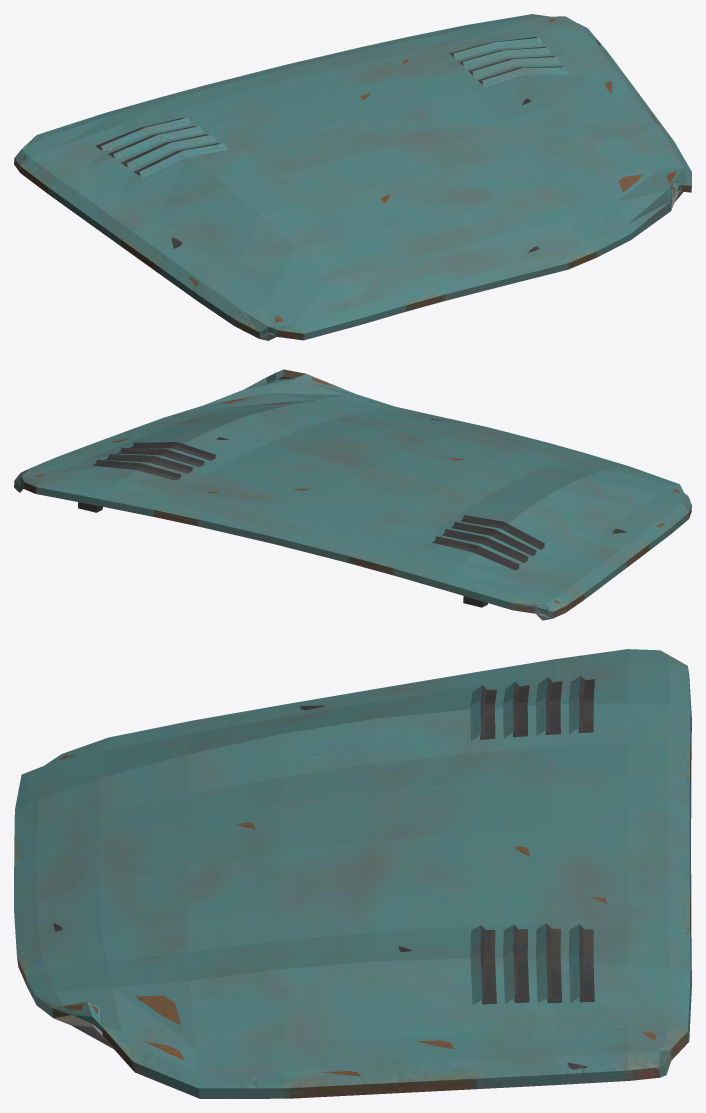
The model's file is JV14_detached_car_hood_v2.glb.
3 views of the same model, one above another, from view 1: azimuth 30°, elevation 25°; view 2: azimuth 150°, elevation 25°; view 3: azimuth 270°, elevation 25° (orthographic). The views are drawn at different scales.
Parts seen in each view (by area): view 1: Detached hood; view 2: Detached hood; view 3: Detached hood.
Part boxes in pixels (<box>): Detached hood: <box>14,14,691,340</box>; Detached hood: <box>14,369,691,620</box>; Detached hood: <box>14,649,691,1098</box>.
Bounding box in the file's own units: 1.4 × 0.1839 × 0.9591.
Materials: 5 (5 with a texture image).
